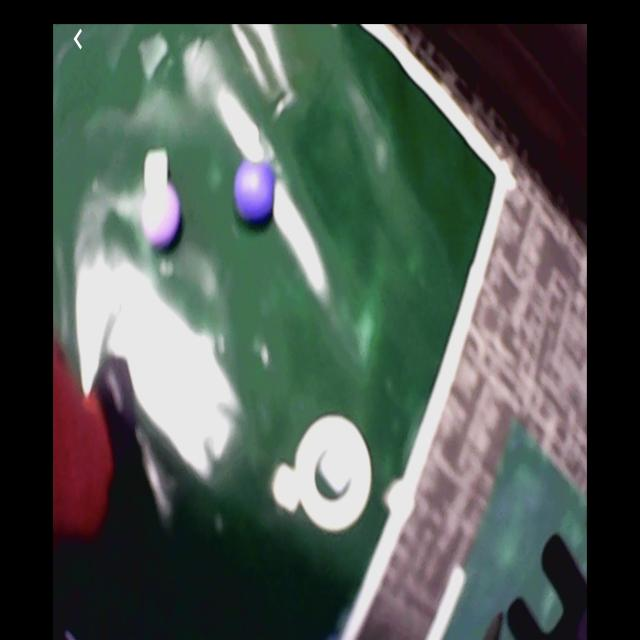ball: (237, 163, 275, 223), (143, 189, 181, 248)
